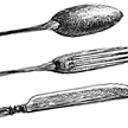fork: (1, 46, 128, 82)
